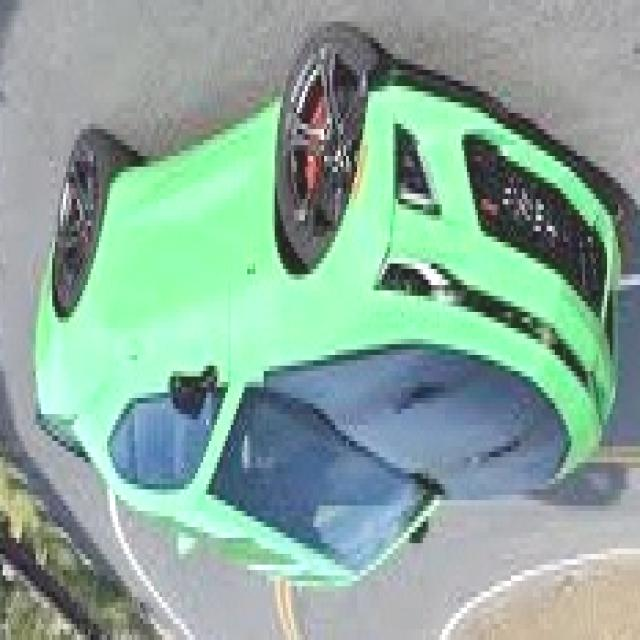green: (34, 27, 622, 586)
